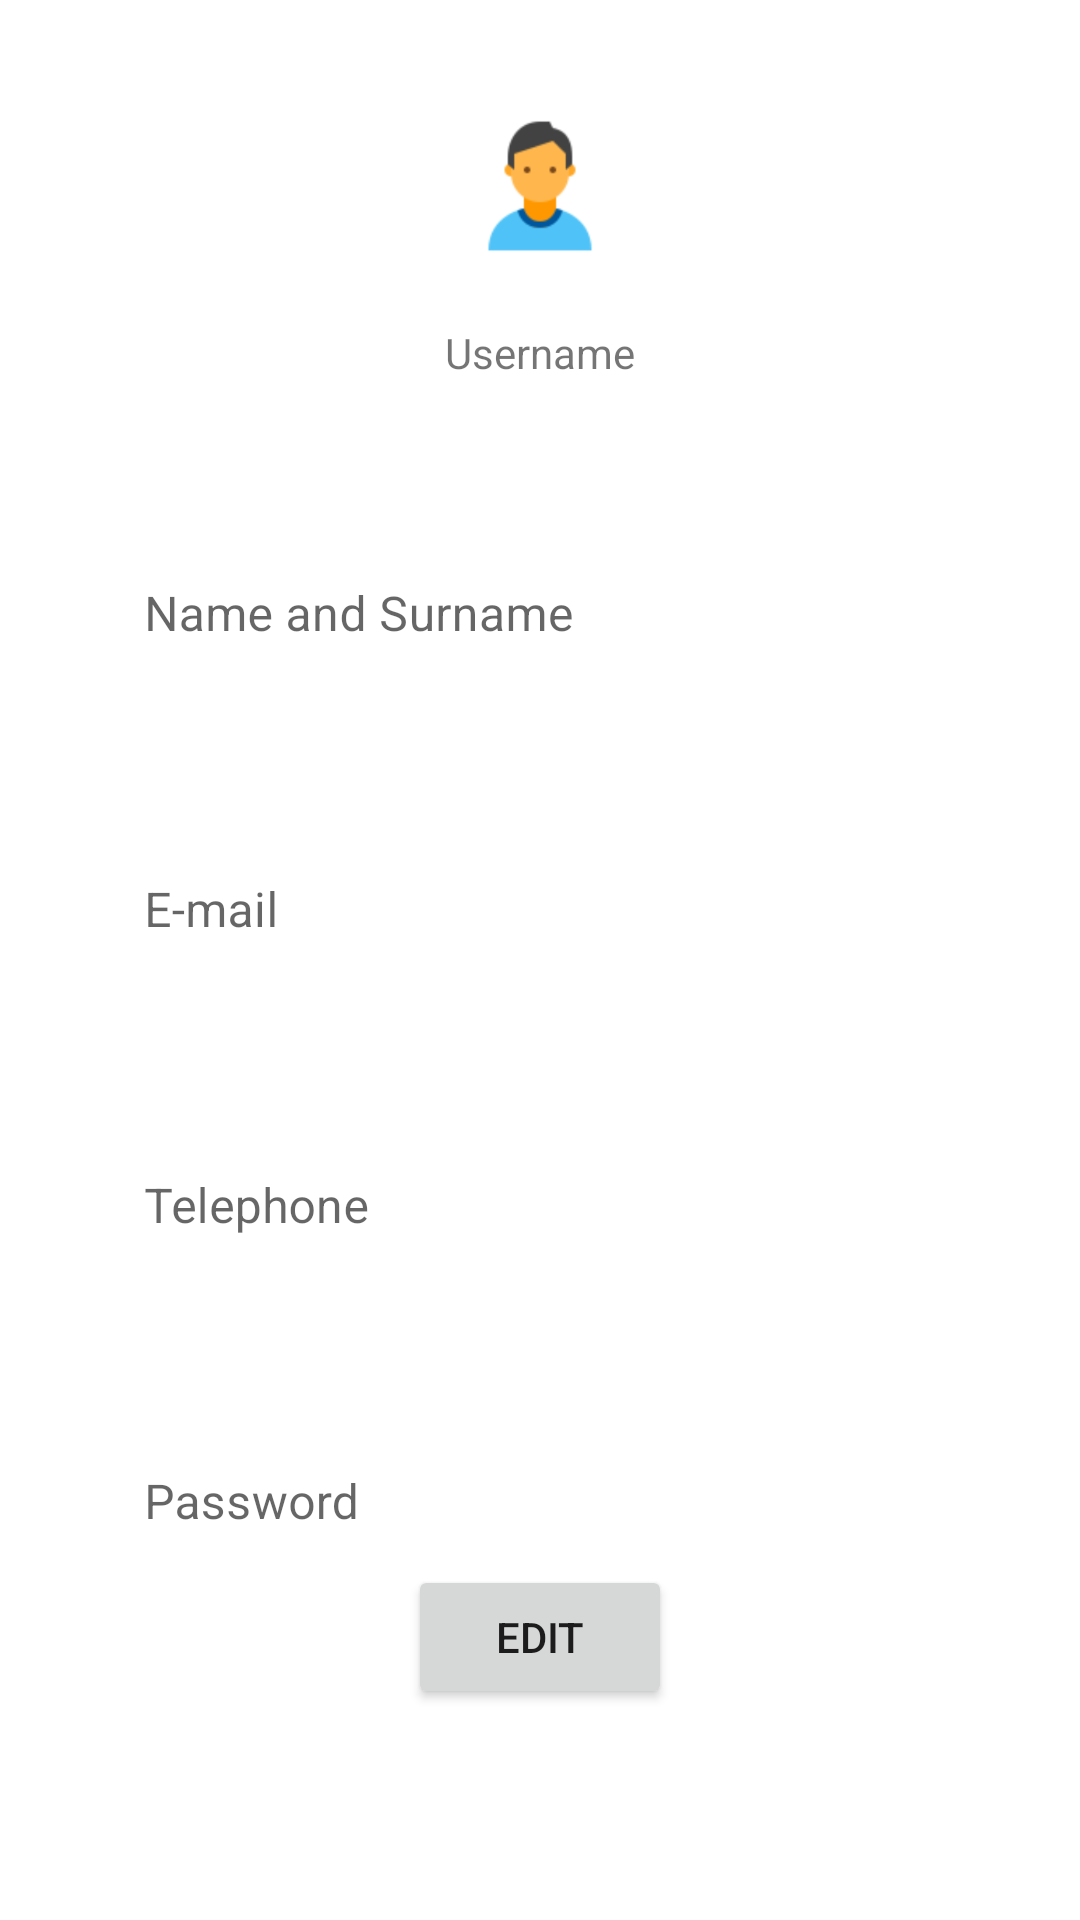

Where to tap for icons on this 1080x1920 app screen, as [x,y]:
person: [540,186]
